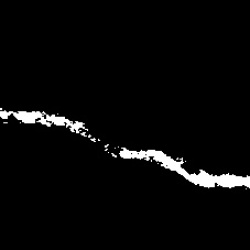crack: (106, 145, 249, 188), (2, 109, 100, 140)
